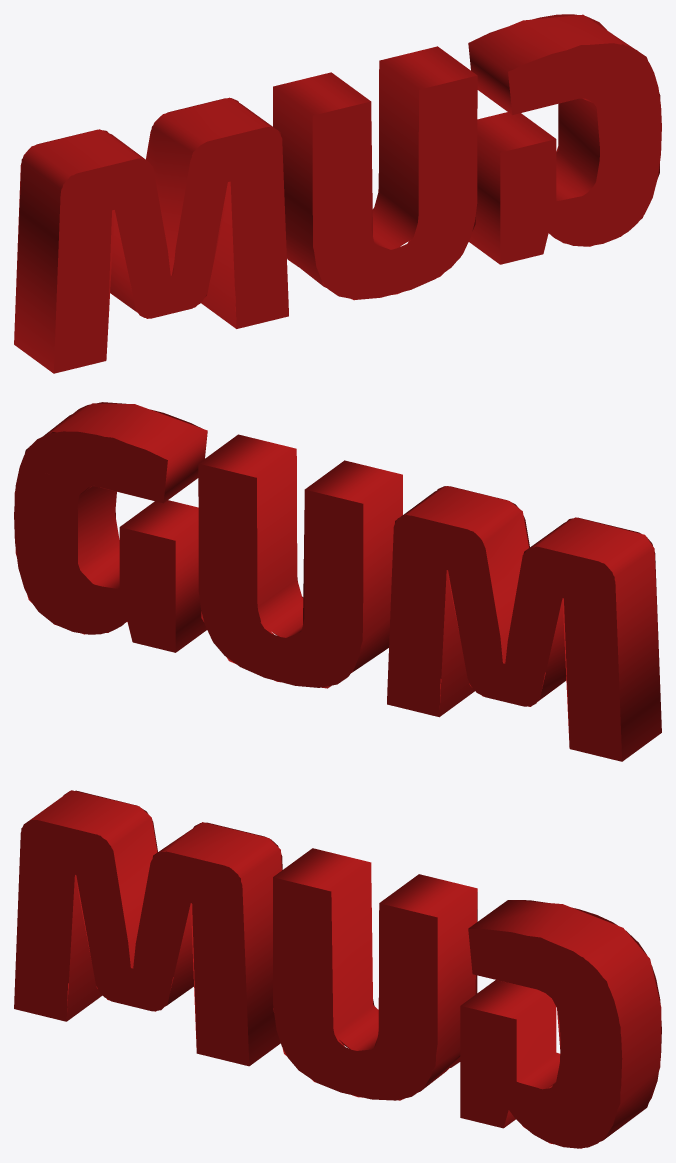
Rendered from gum.fbx.
3 renders of one model, top to bottom at view 1: azimuth 30°, elevation 25°; view 2: azimuth 150°, elevation 25°; view 3: azimuth 330°, elevation 25°, orthographic.
Visible parts, largest first — view 1: Text; view 2: Text; view 3: Text.
Part boxes in pixels (<box>): Text: <box>14,14,661,373</box>; Text: <box>14,402,661,761</box>; Text: <box>14,790,661,1148</box>.
Size of the model in its own units: 7.06 by 2.27 by 0.8.
